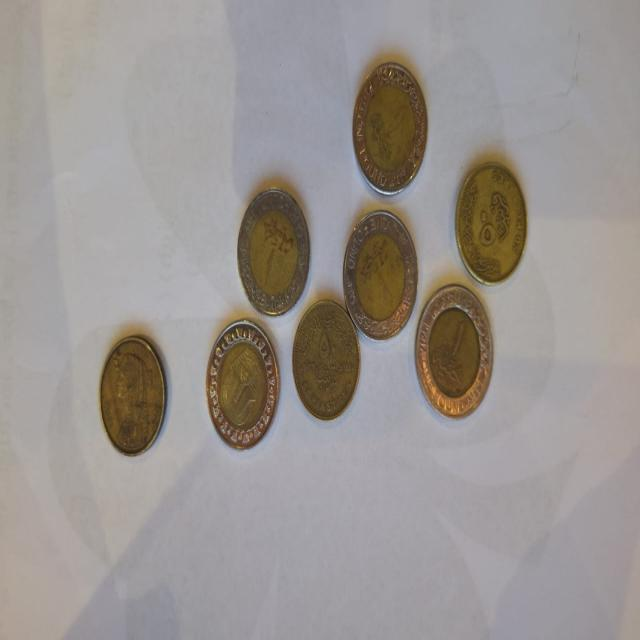Half Pound: (457, 160, 532, 281), (98, 336, 168, 459), (292, 295, 359, 422)
One Pound: (350, 58, 432, 198), (345, 209, 422, 338), (235, 184, 311, 314), (207, 319, 280, 452)
